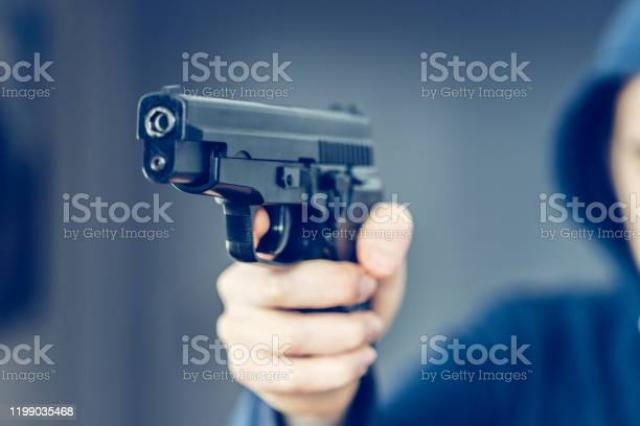handgun: (131, 81, 387, 365)
